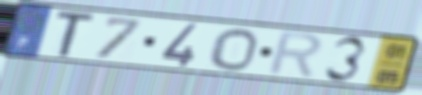3: (322, 36, 376, 84)
4: (159, 22, 199, 69)
7: (93, 15, 145, 61)
O: (208, 27, 260, 72)
R: (263, 30, 326, 81)
T: (53, 11, 100, 59)
